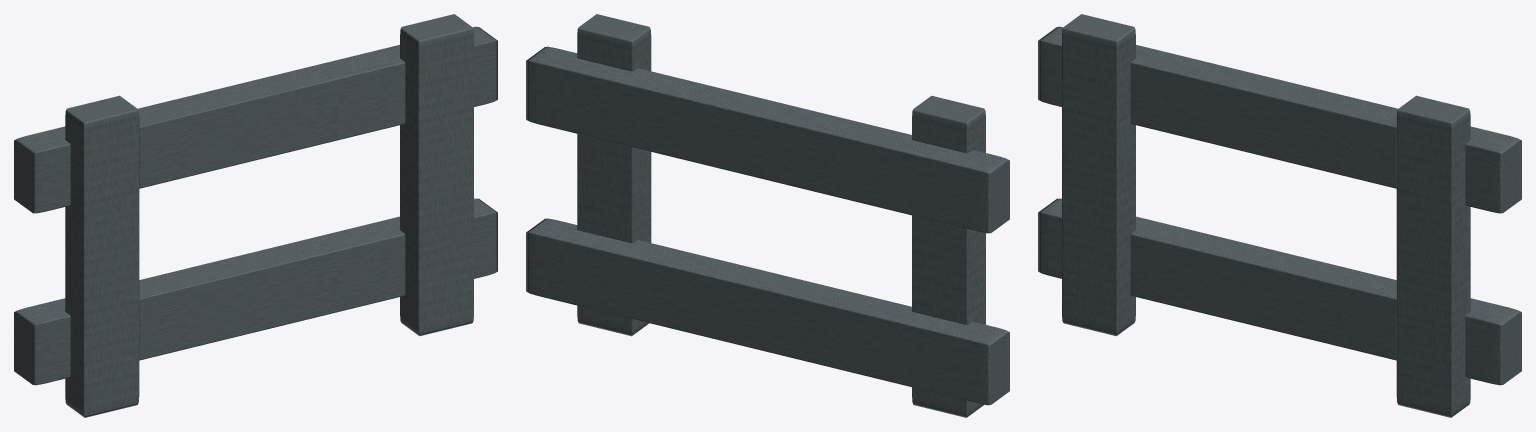
The model's file is tv-mount.glb.
3 renders of one model, left to right at view 1: azimuth 30°, elevation 25°; view 2: azimuth 150°, elevation 25°; view 3: azimuth 330°, elevation 25°, orthographic.
Visible parts, largest first — view 1: rail (×2), arm (×2); view 2: rail (×2), arm (×2); view 3: rail (×2), arm (×2).
Part boxes in pixels (<box>): rail (×2): <box>14,26,497,385</box>; arm (×2): <box>65,14,473,417</box>; rail (×2): <box>526,46,1009,405</box>; arm (×2): <box>577,14,985,417</box>; rail (×2): <box>1038,26,1521,385</box>; arm (×2): <box>1062,14,1470,417</box>.
Bounding box in the file's own units: 0.46 × 0.28 × 0.0566.
Materials: 1 (1 with a texture image).
